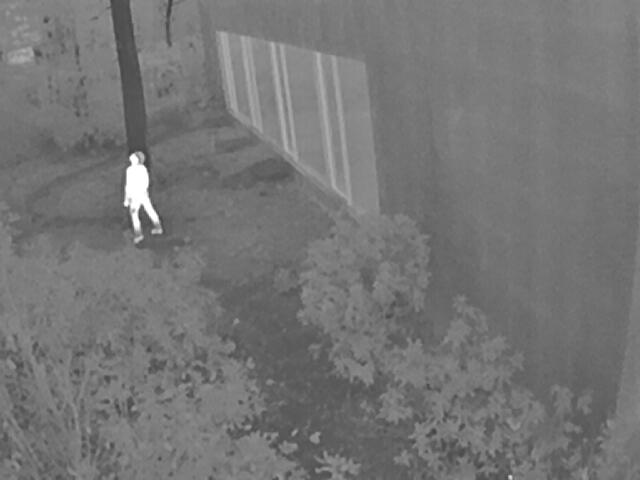person: (122, 151, 161, 243)
